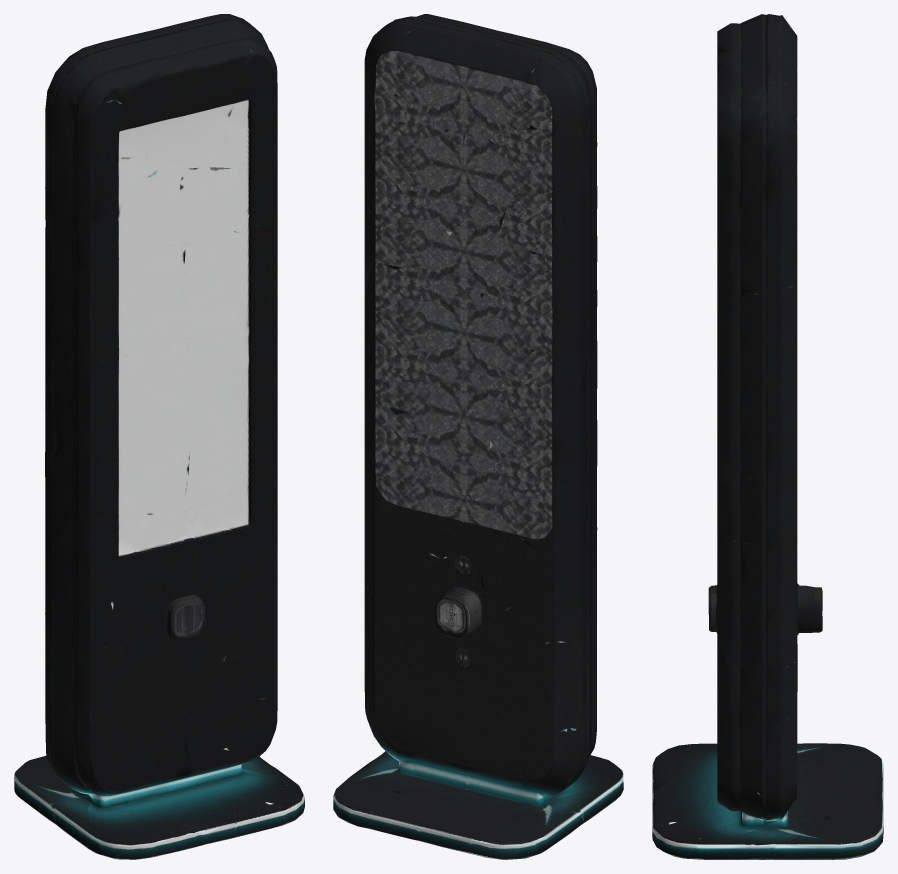
Rendered from kiosk.glb.
3 renders of one model, left to right at view 1: azimuth 30°, elevation 25°; view 2: azimuth 150°, elevation 25°; view 3: azimuth 270°, elevation 25°, orthographic.
Size of the model in its own units: 0.5603 by 1.9 by 0.5227.
1 material, 1 textured.
